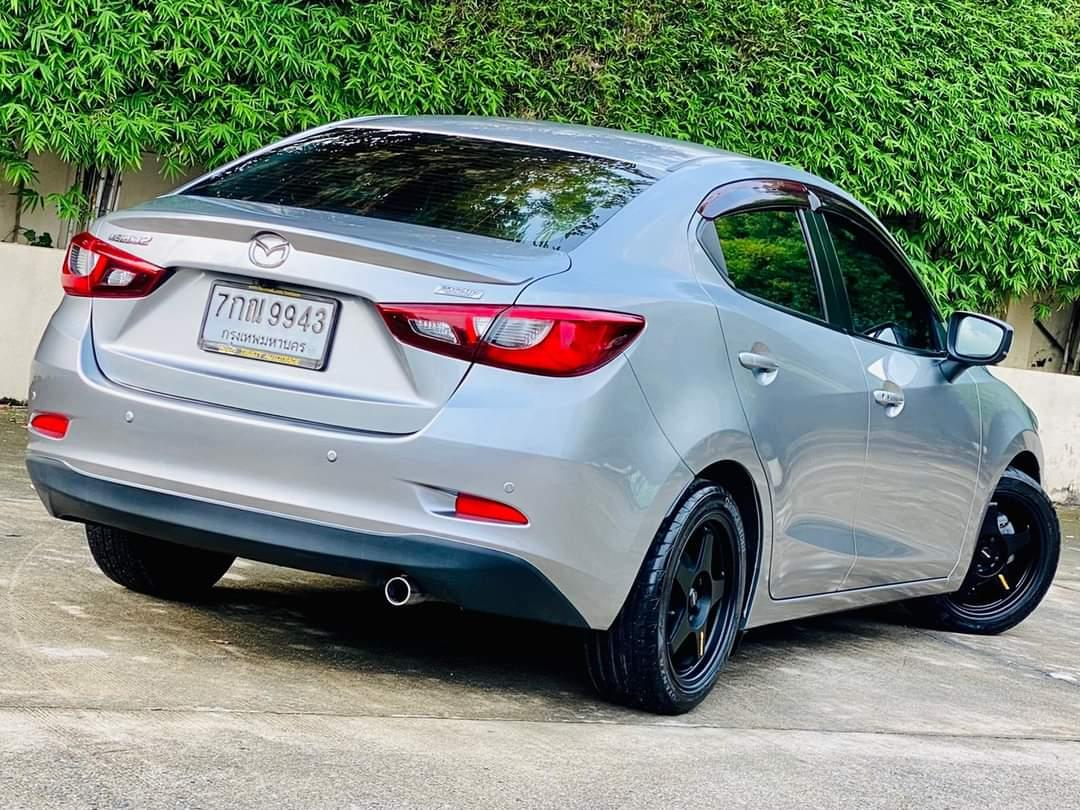license-plate: (195, 267, 347, 377)
